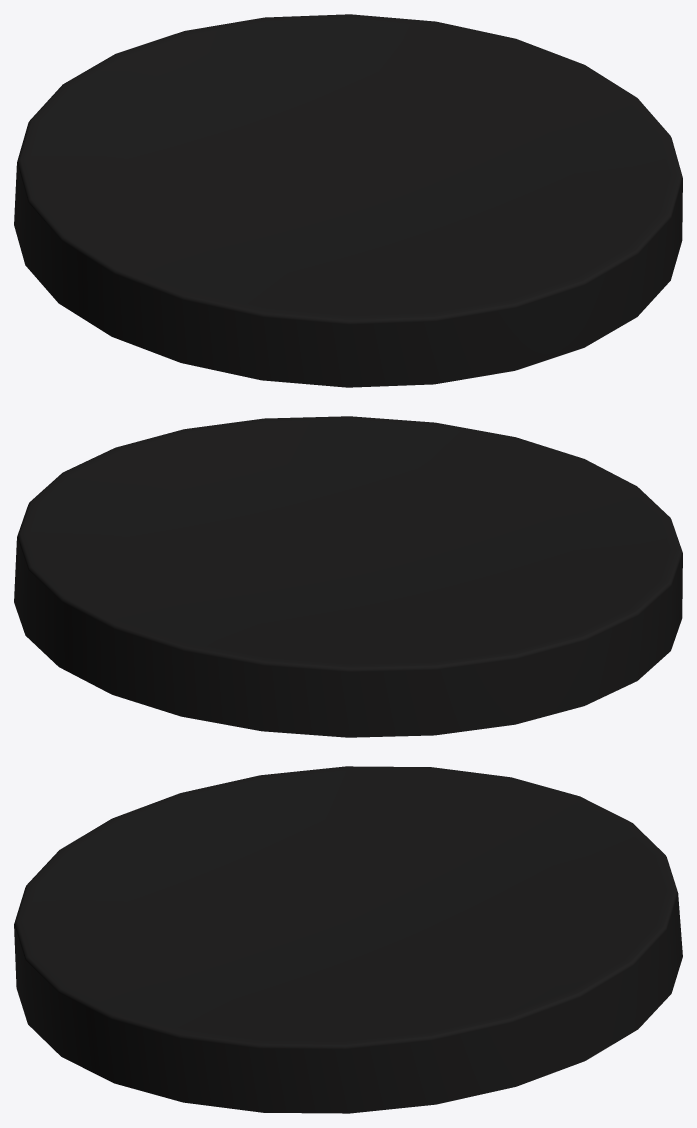
Rendered from trackpad.obj.
The picture shows the model from 3 angles, top to bottom: view 1: azimuth 30°, elevation 25°; view 2: azimuth 150°, elevation 25°; view 3: azimuth 270°, elevation 25°; orthographic projection.
Parts seen in each view (by area): view 1: polySurface276_polySurface275; view 2: polySurface276_polySurface275; view 3: polySurface276_polySurface275.
Part boxes in pixels (x1,y1,x2,y2): polySurface276_polySurface275: [14, 14, 682, 387]; polySurface276_polySurface275: [14, 416, 682, 737]; polySurface276_polySurface275: [14, 766, 682, 1113].
Bounding box in the file's own units: 0.0446 × 0.00725 × 0.0447.
Materials: 1 (1 with a texture image).
